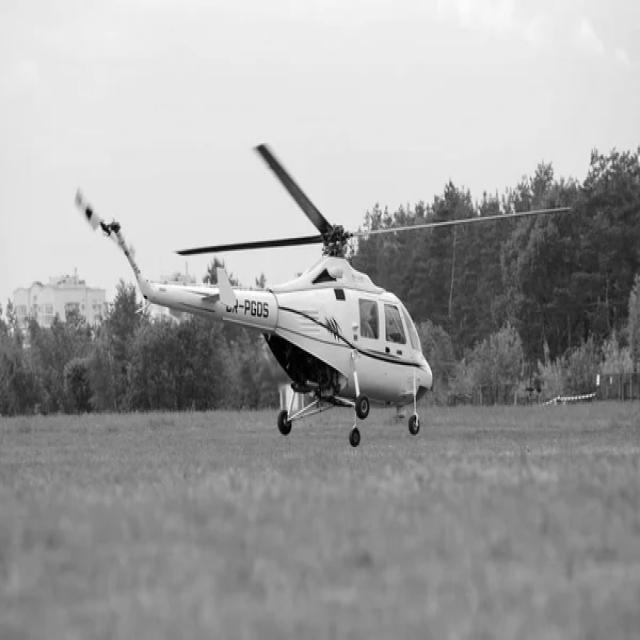Helicopter: (75, 146, 570, 446)
